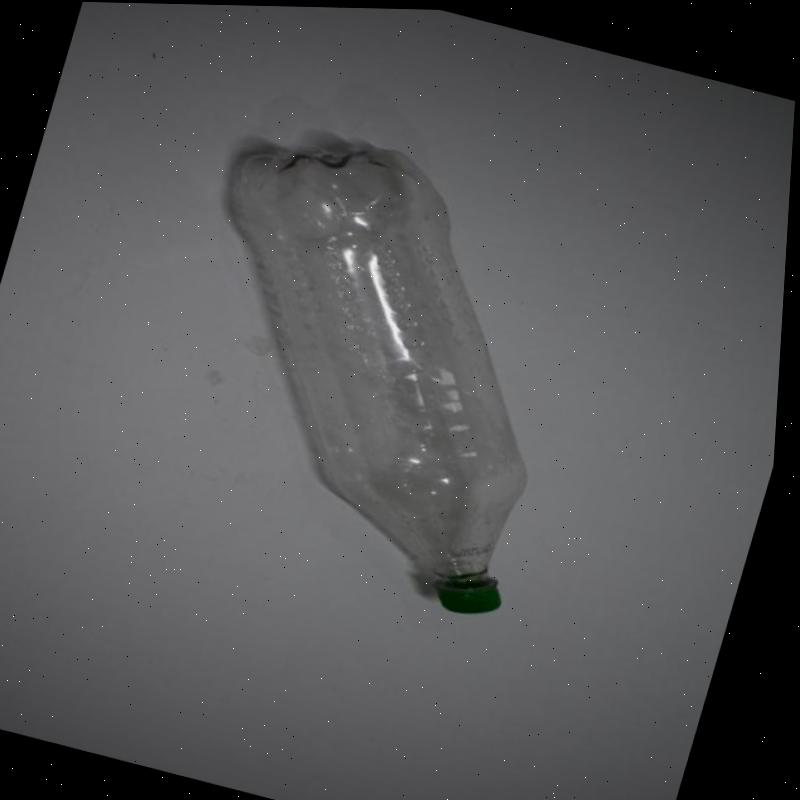botella: (130, 108, 626, 623)
